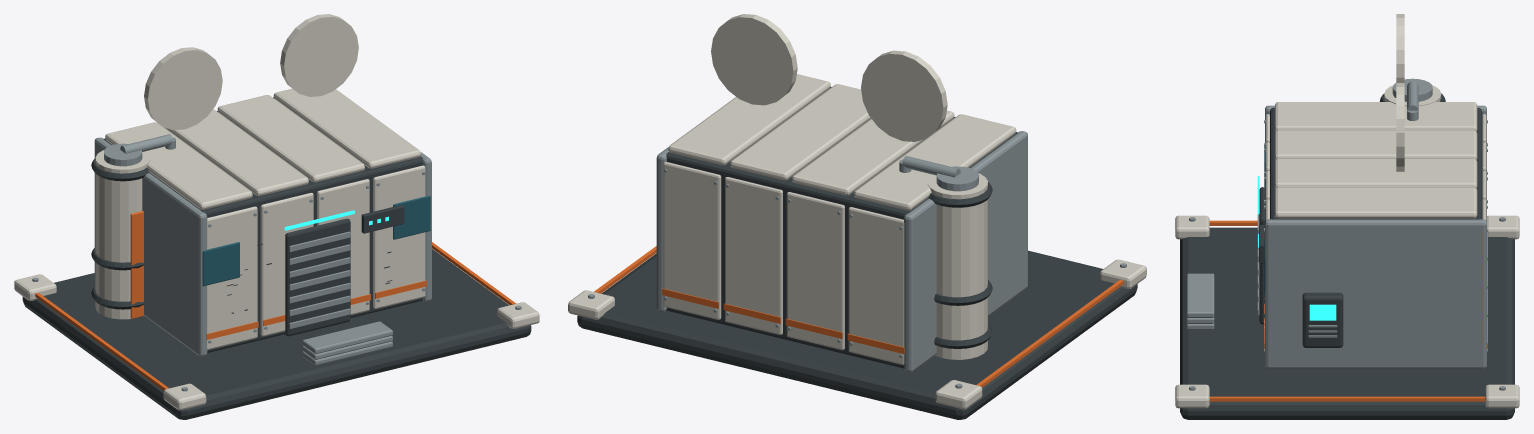
Rendered from SM_CommunicationSystemsPlant_Body.002.fbx.
3 renders of one model, left to right at view 1: azimuth 30°, elevation 25°; view 2: azimuth 150°, elevation 25°; view 3: azimuth 270°, elevation 25°, orthographic. The views are drawn at different scales.
Parts seen in each view (by area): view 1: SM_CommunicationSystemsPlant_Body.002; view 2: SM_CommunicationSystemsPlant_Body.002; view 3: SM_CommunicationSystemsPlant_Body.002.
Boxes of the visible parts, x1,y1,x2,y2 form: SM_CommunicationSystemsPlant_Body.002: [14, 14, 539, 419]; SM_CommunicationSystemsPlant_Body.002: [568, 14, 1146, 419]; SM_CommunicationSystemsPlant_Body.002: [1175, 14, 1519, 419].
Bounding box in the file's own units: 532 × 422 × 380.
